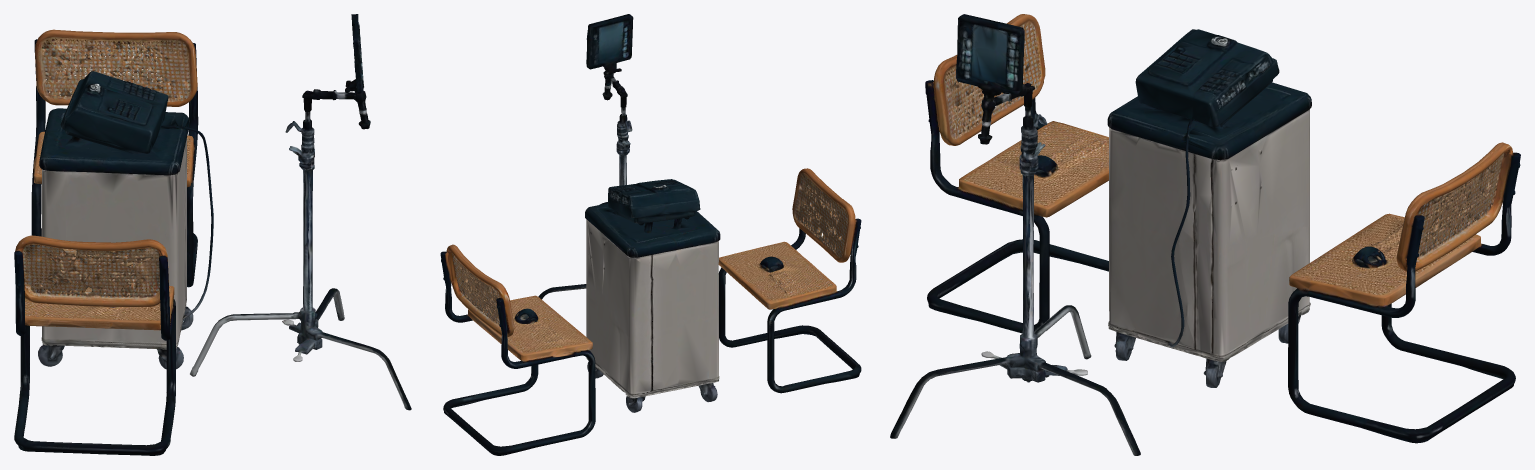
File: culture_set_lo.glb
The picture shows the model from 3 angles, left to right: view 1: azimuth 30°, elevation 25°; view 2: azimuth 150°, elevation 25°; view 3: azimuth 270°, elevation 25°; orthographic projection. The views are drawn at different scales.
Parts seen in each view (by area): view 1: tripo_node_c9ce542f-831b-4e68-8c14-cc1eb9f5f028; view 2: tripo_node_c9ce542f-831b-4e68-8c14-cc1eb9f5f028; view 3: tripo_node_c9ce542f-831b-4e68-8c14-cc1eb9f5f028.
Part boxes in pixels (x1,y1,x2,y2): tripo_node_c9ce542f-831b-4e68-8c14-cc1eb9f5f028: [14, 14, 411, 455]; tripo_node_c9ce542f-831b-4e68-8c14-cc1eb9f5f028: [440, 14, 861, 455]; tripo_node_c9ce542f-831b-4e68-8c14-cc1eb9f5f028: [890, 14, 1520, 455].
Size of the model in its own units: 1 by 0.8998 by 1.25.
1 material, 1 textured.
